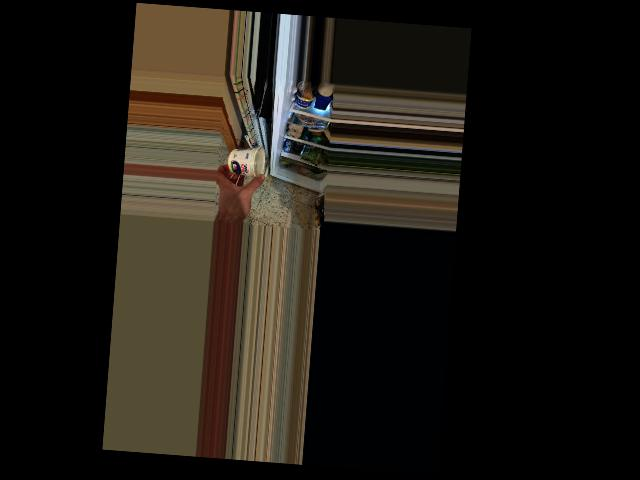cotage: (225, 151, 259, 177)
